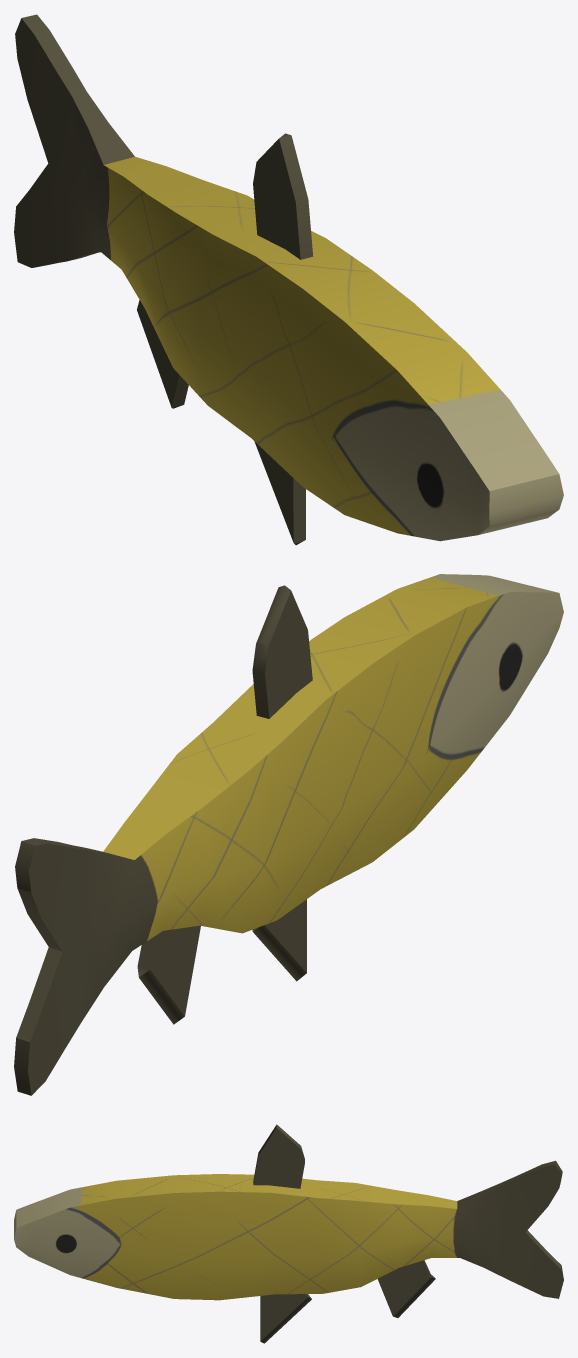
Rendered from Vis2 1.fbx.
3 views of the same model, one above another, from view 1: azimuth 30°, elevation 25°; view 2: azimuth 150°, elevation 25°; view 3: azimuth 270°, elevation 25° (orthographic). The views are drawn at different scales.
Visible parts, largest first — view 1: Carp_1; view 2: Carp_1; view 3: Carp_1.
Boxes of the visible parts, box(x1,y1,x2,y2) form: Carp_1: box(14, 14, 563, 545); Carp_1: box(14, 574, 563, 1095); Carp_1: box(14, 1124, 563, 1343).
Bounding box in the file's own units: 0.3824 × 1.54 × 3.49.
